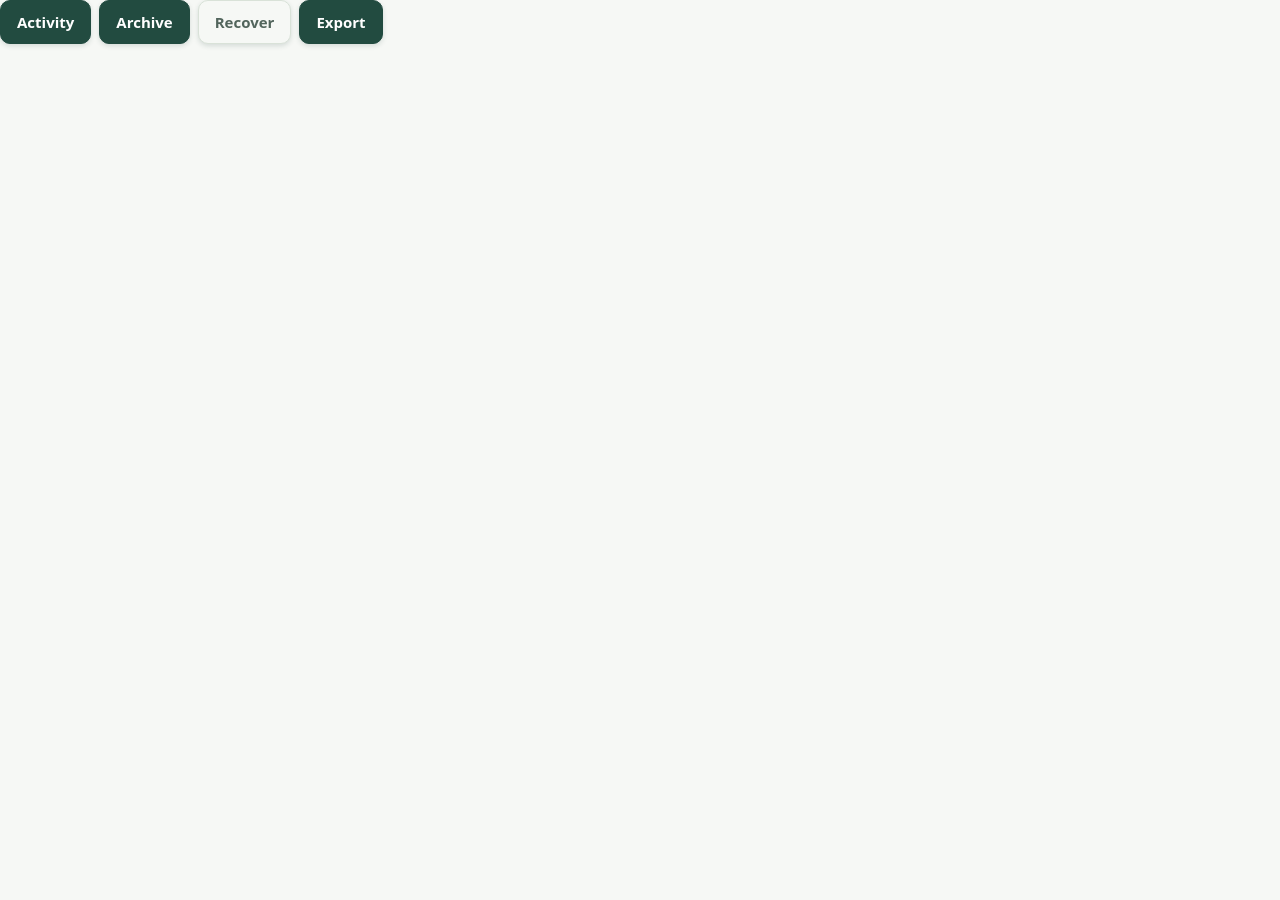
Test: CharacterTools › keeps the archive dialog open with an error when the session stops being ready mid-confirm
Click the button "Archive": (144, 22) [99, 0, 190, 44]
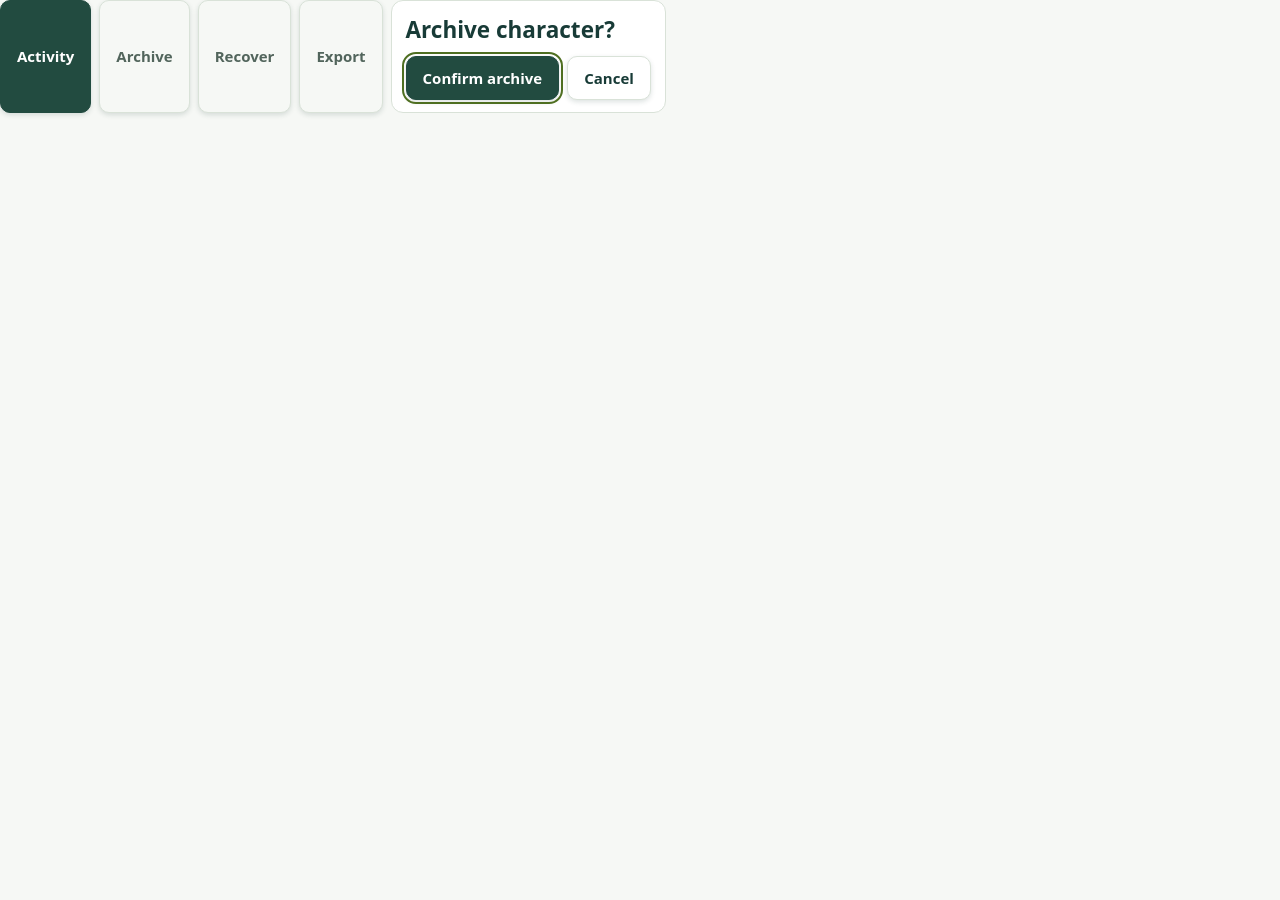
Check: the dialog is shown, box [391, 0, 666, 113]
Click the button "Confirm archive": (482, 78) [406, 56, 559, 100]
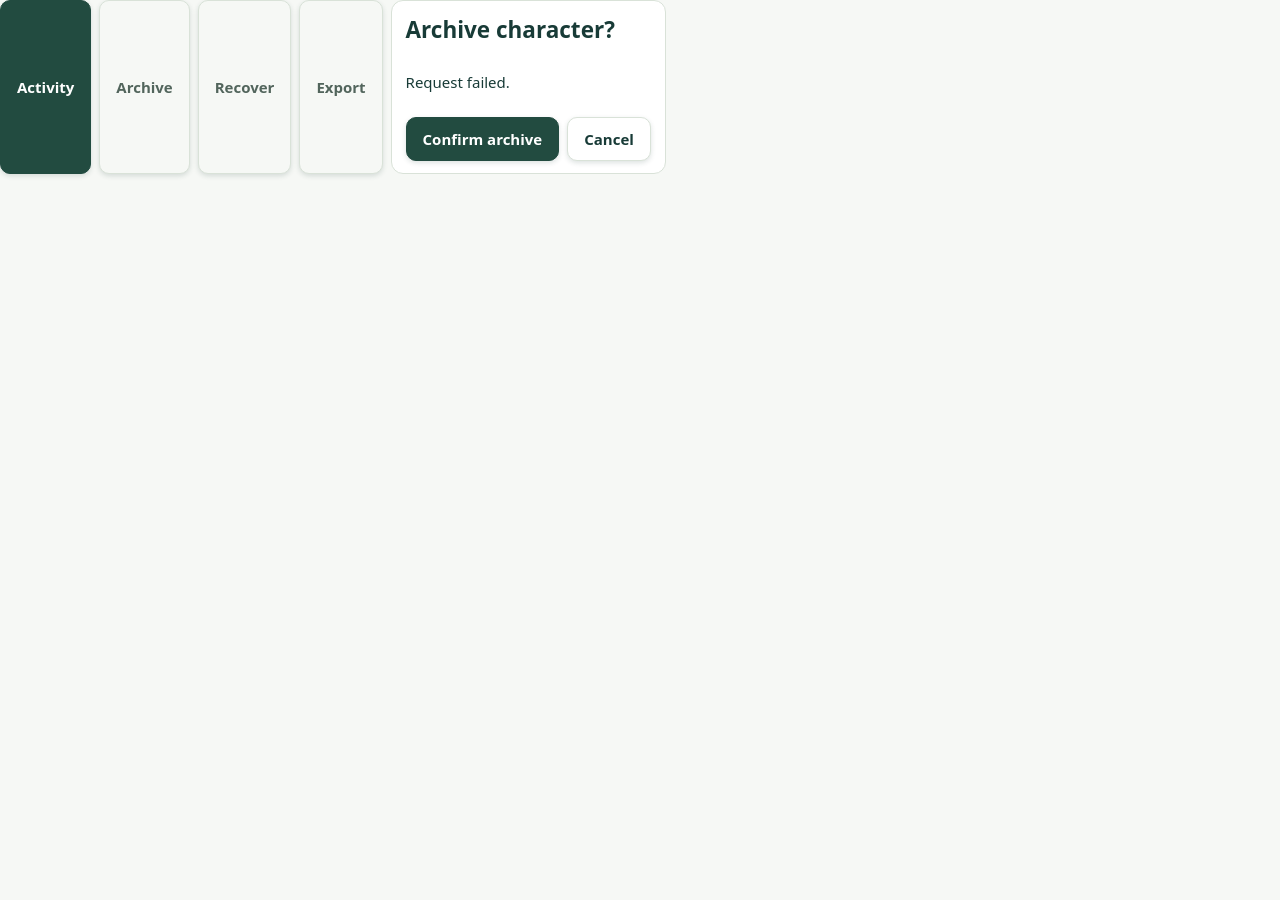
Check: the dialog is shown, box [391, 0, 666, 174]
Check: the message reads "Request failed.", box [406, 72, 510, 92]
